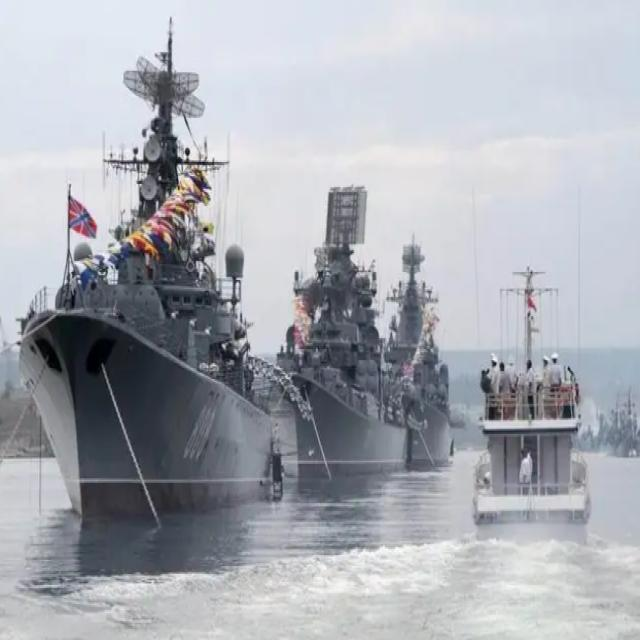houseboat: (476, 250, 599, 526)
navalvessels: (17, 35, 284, 522), (252, 176, 410, 486), (377, 235, 458, 469)
